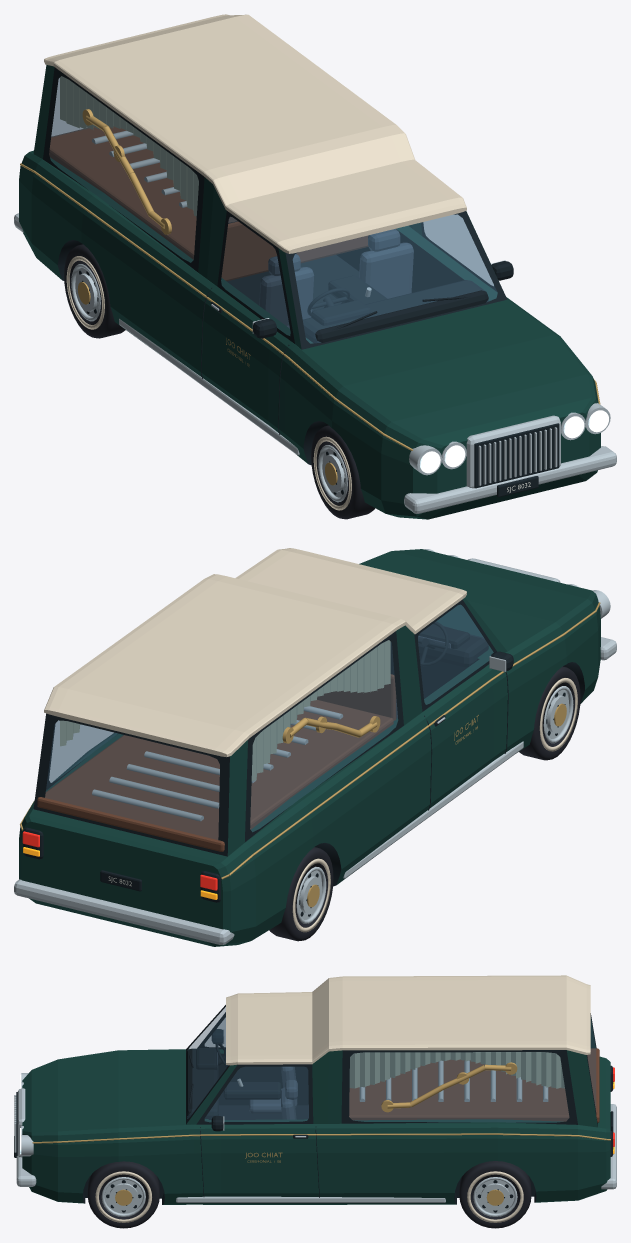
3 views of the same model, one above another, from view 1: azimuth 30°, elevation 25°; view 2: azimuth 150°, elevation 25°; view 3: azimuth 270°, elevation 25° (orthographic). The views are drawn at different scales.
Visible parts, largest first — view 1: Joo Chiat Ceremonial Estate; view 2: Joo Chiat Ceremonial Estate; view 3: Joo Chiat Ceremonial Estate.
Part boxes in pixels (x1,y1,x2,y2): Joo Chiat Ceremonial Estate: (14, 14, 616, 519); Joo Chiat Ceremonial Estate: (14, 548, 616, 946); Joo Chiat Ceremonial Estate: (14, 975, 616, 1228).
Bounding box in the file's own units: 2.13 × 1.88 × 5.76.
